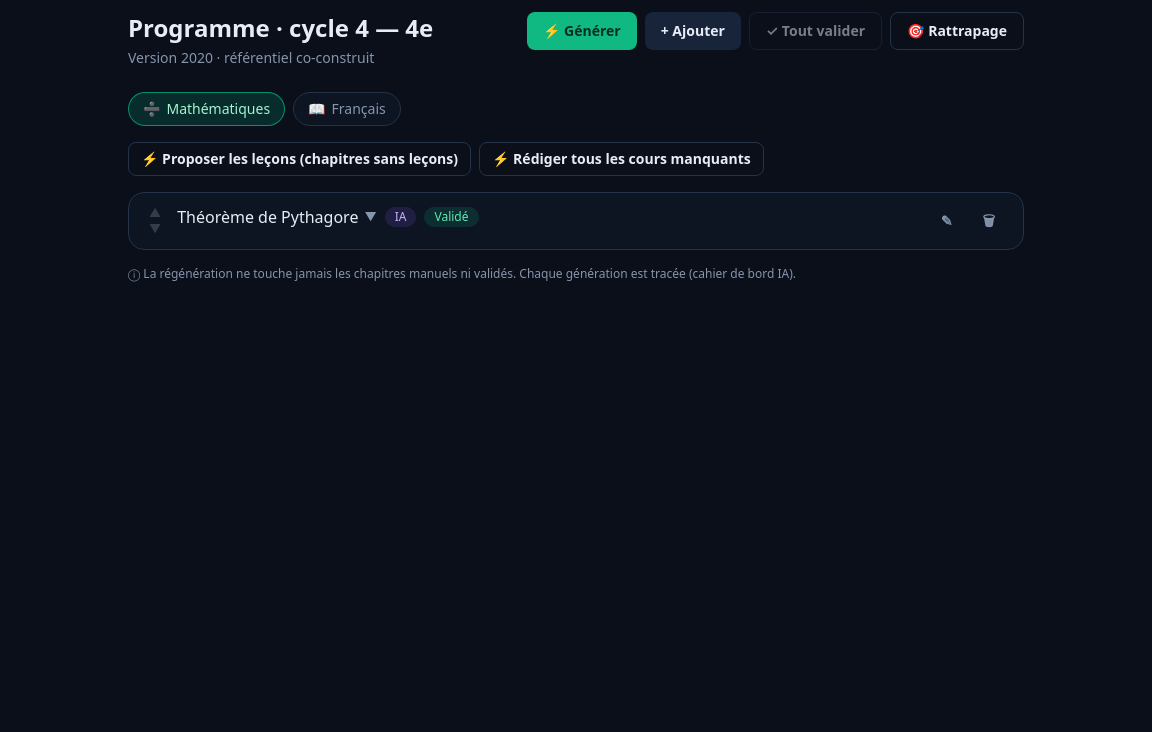
Test: ProgrammePage › lot « Rédiger les cours manquants » : validées sans cours seulement, séquentiel
Click the button "Théorème de Pythagore ▼" at (277, 217), box [177, 205, 377, 229]
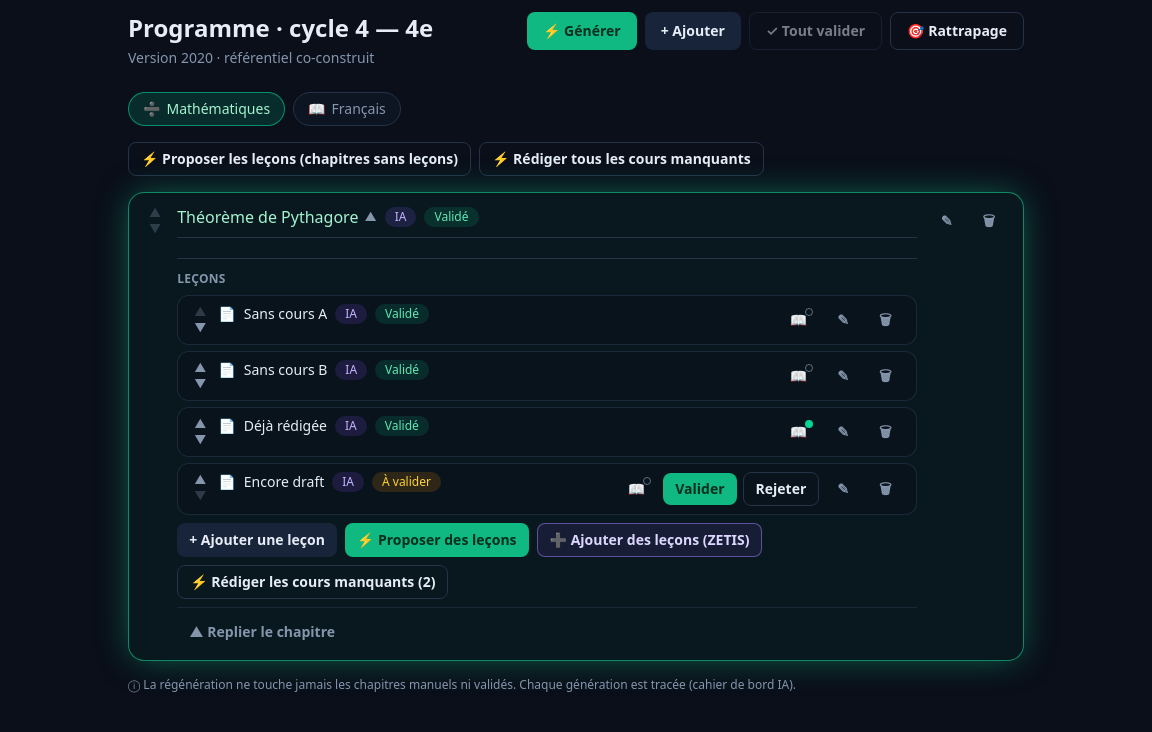
Click the button "⚡ Rédiger les cours manquants (2)" at (313, 582), box [177, 565, 448, 599]
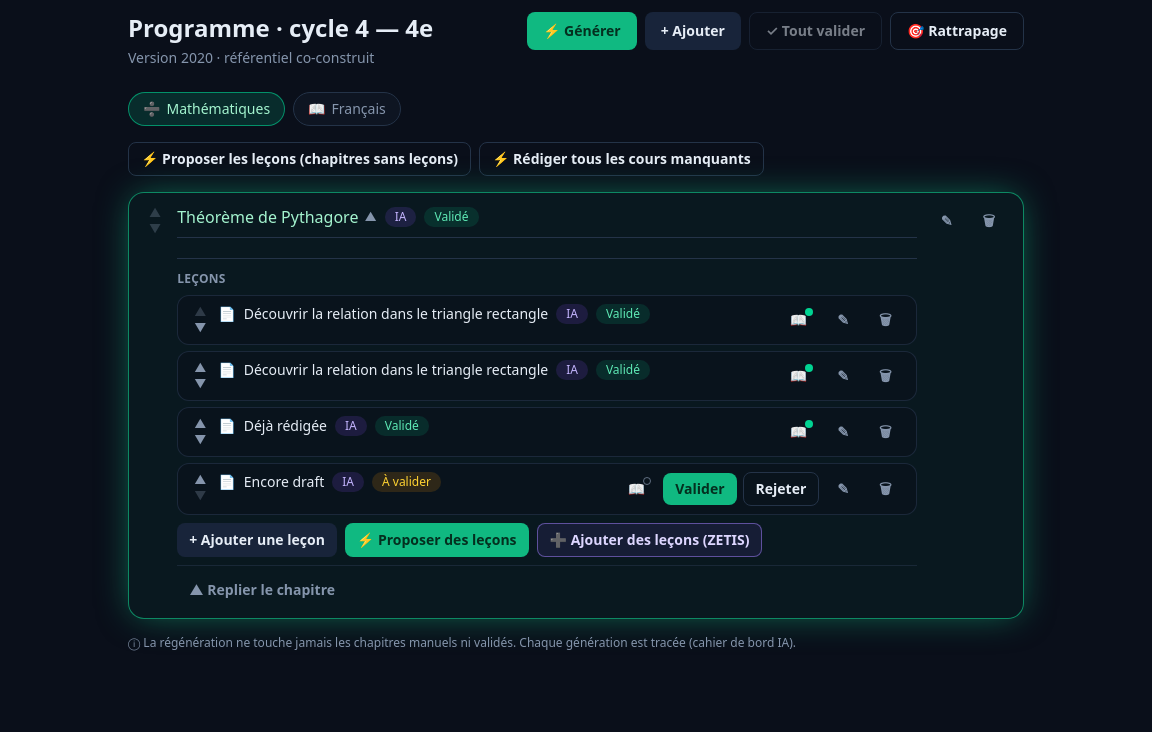
Now the button "Rédiger les cours manquants" is gone
